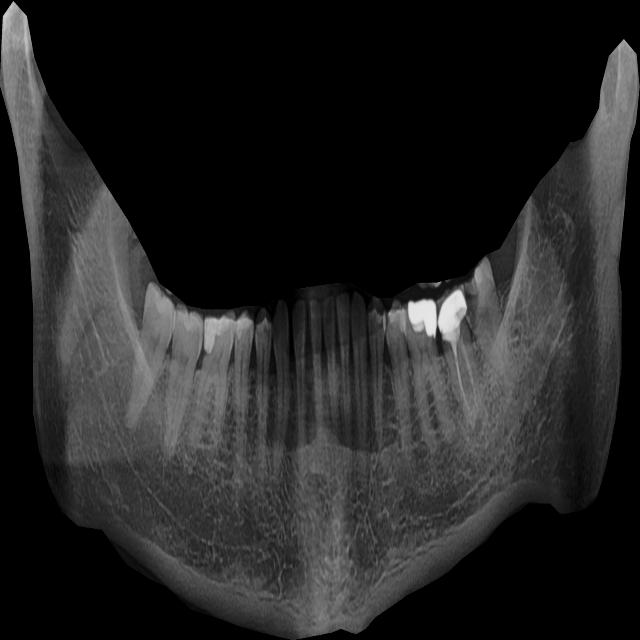mandibula: (0, 1, 640, 640)
